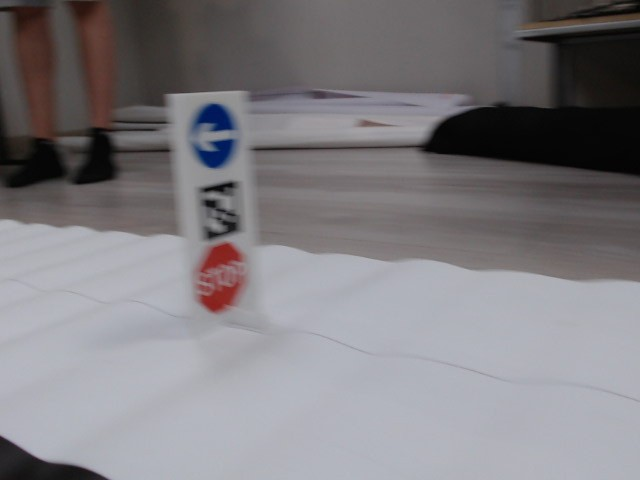Stop: (197, 243, 244, 312)
